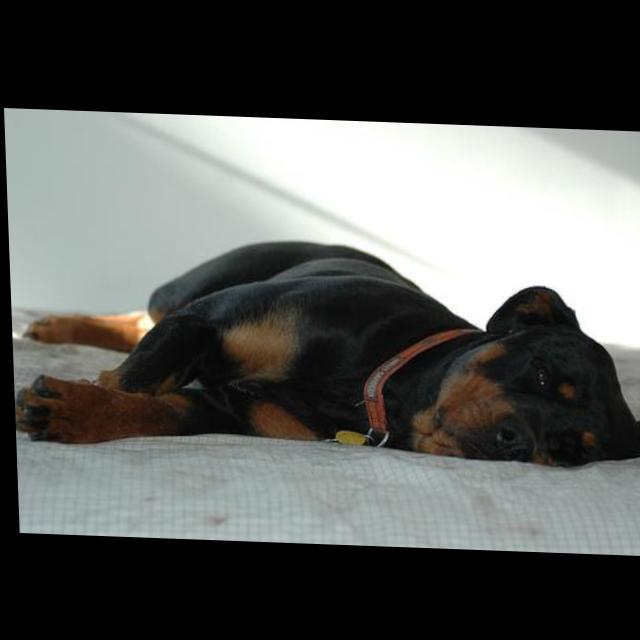rottweiler: (8, 228, 640, 465)
